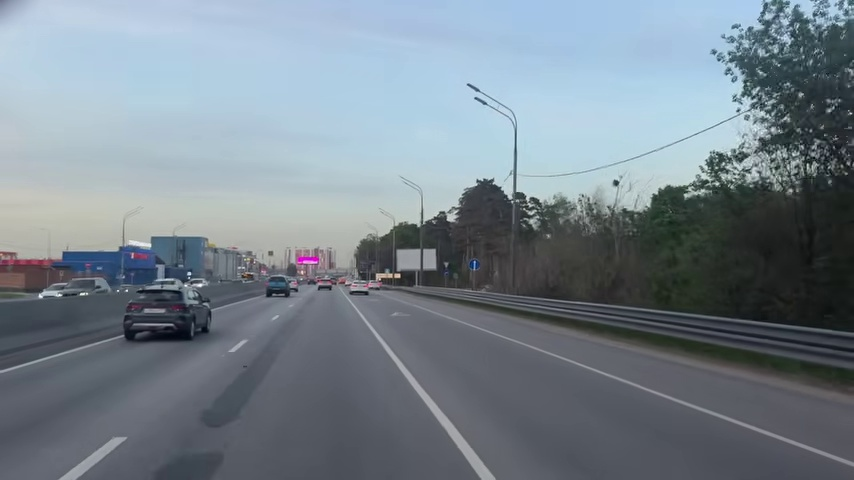apagada: (463, 81, 488, 110)
